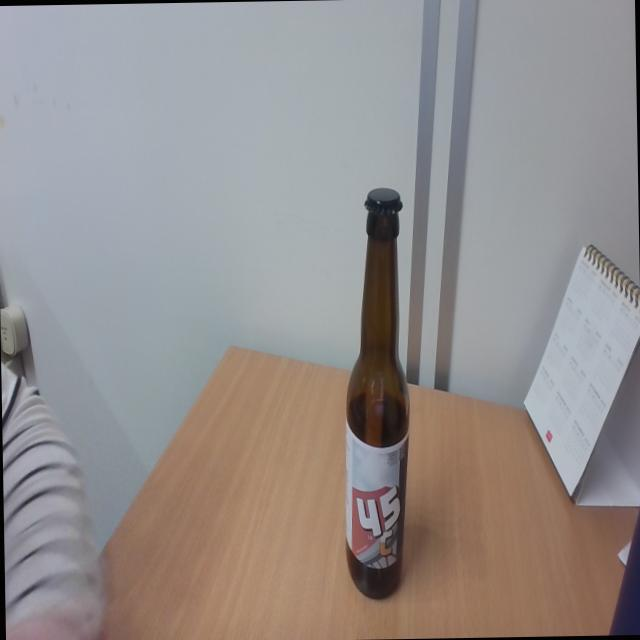Bottle: (341, 184, 411, 599)
Cap: (362, 188, 404, 220)
Label: (346, 429, 408, 569)
